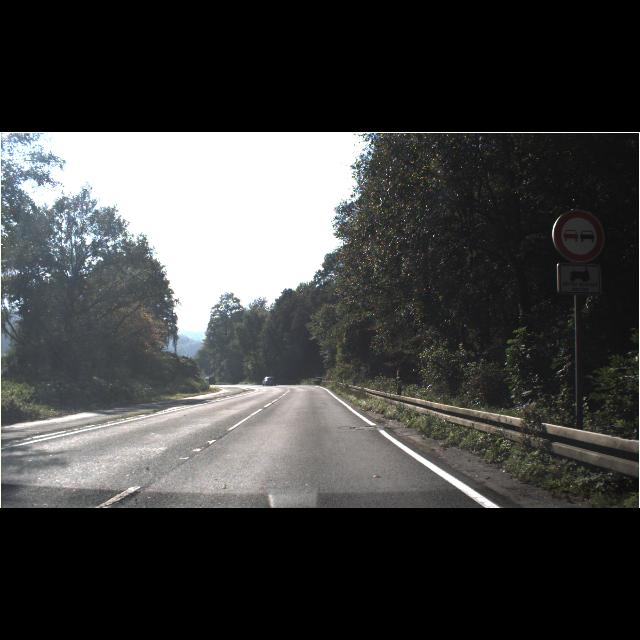prohibitory: (552, 210, 604, 262)
